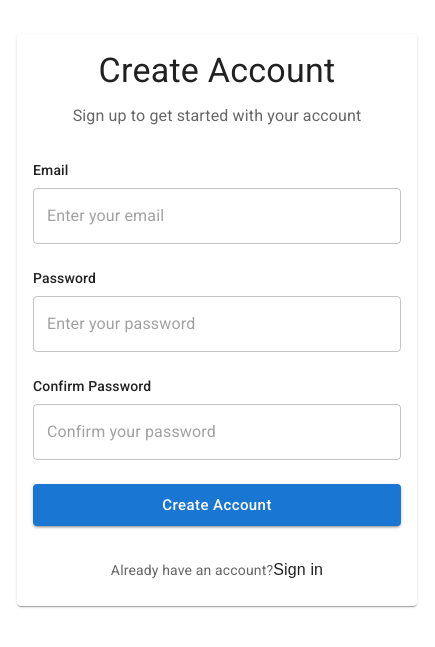
it: SignUpForm › shows error message if signup fails
Type "exists@example.com" into the field with test id "signup-email-input" at coordinates (217, 216), box [33,188,401,244]
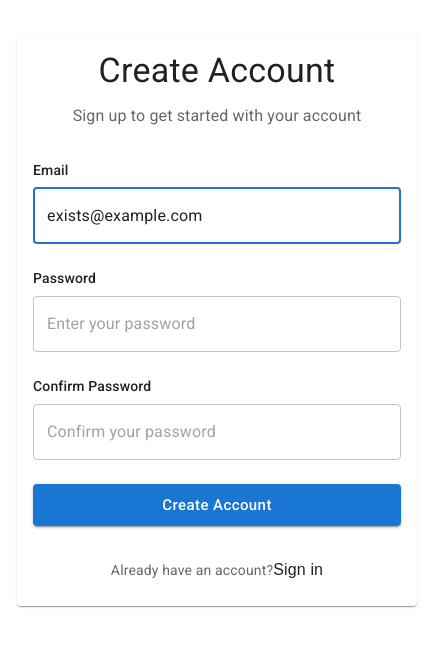
Type "abc12345" into the password field with test id "signup-password-input" at coordinates (217, 324), box [33,296,401,352]
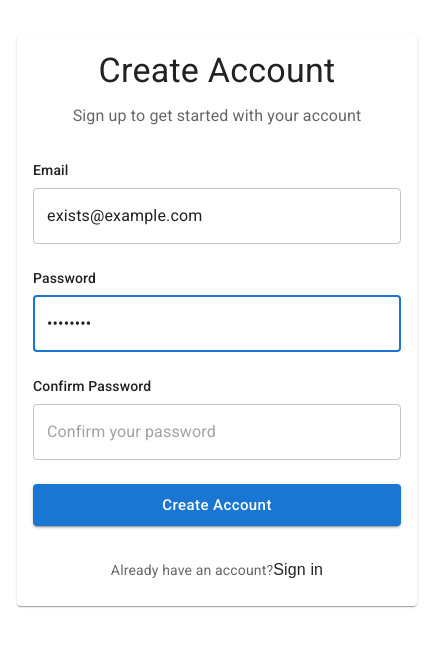
Type "abc12345" into the password field with test id "signup-confirm-password-input" at coordinates (217, 432), box [33,404,401,460]
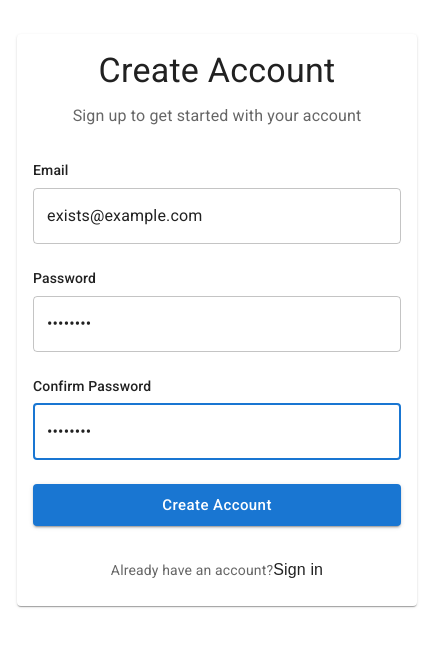
Submit the form with test id "signup-form", box [33,160,401,526]
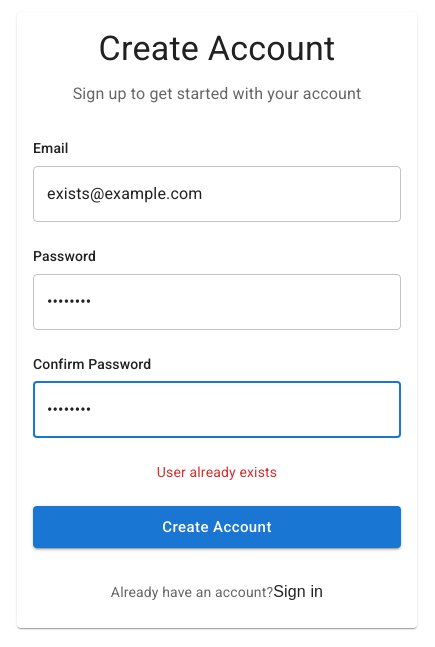
Expected: the text "User already exists" is shown, [157,464,277,480]
